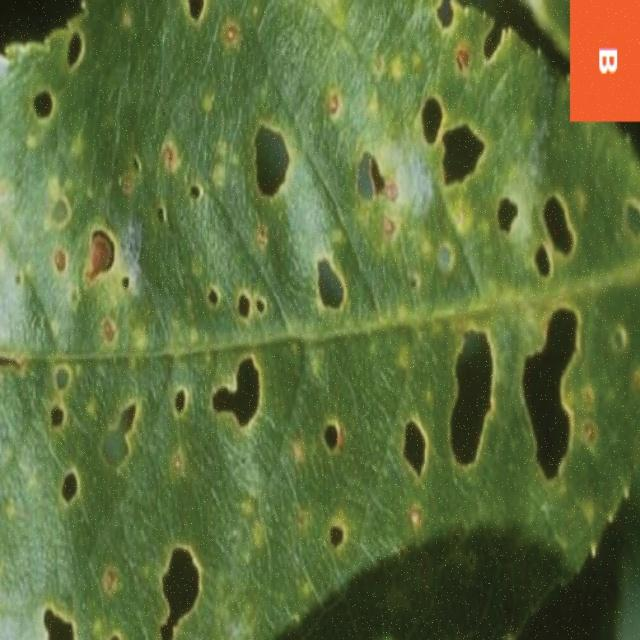shot_hole: (0, 0, 571, 633)
